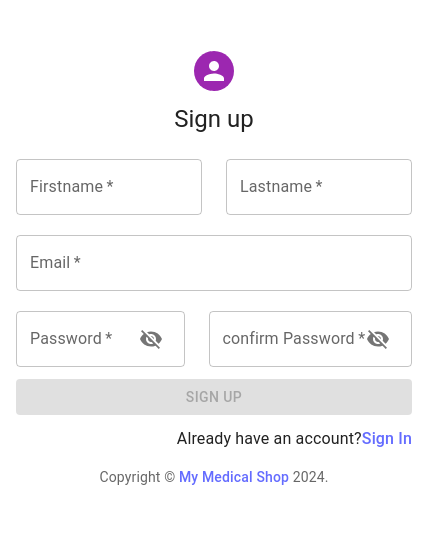
Test: Register › Button must be disabled when only Password exists and appropriate required error message must be shown
Type "Vai1346*" into the password field with test id "sign-up-password" at (69, 339), box [16, 311, 122, 367]
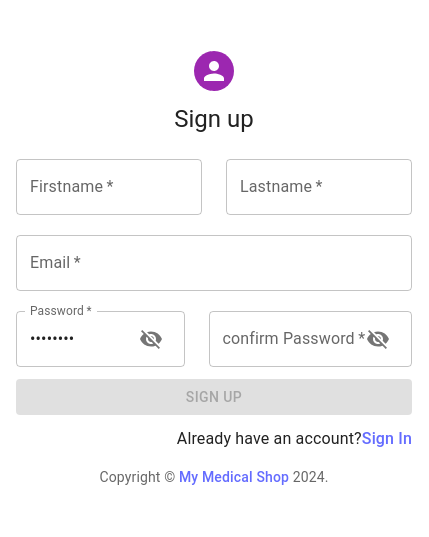
Leave the password field with test id "sign-up-confirm-password", box [208, 311, 350, 367]
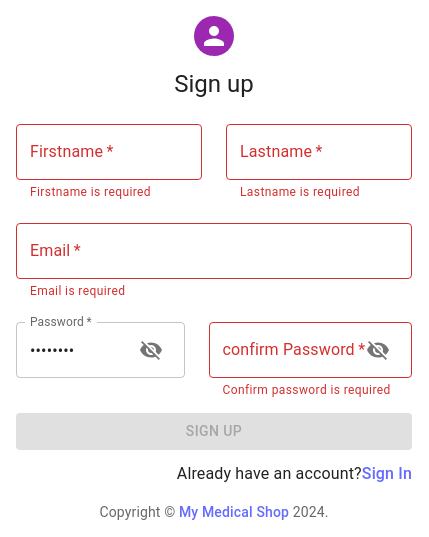
Check: the text "Firstname is required" is shown, box [30, 185, 151, 199]
Check: the text "Lastname is required" is shown, box [240, 185, 360, 199]
Check: the text "Email is required" is shown, box [30, 284, 125, 298]
